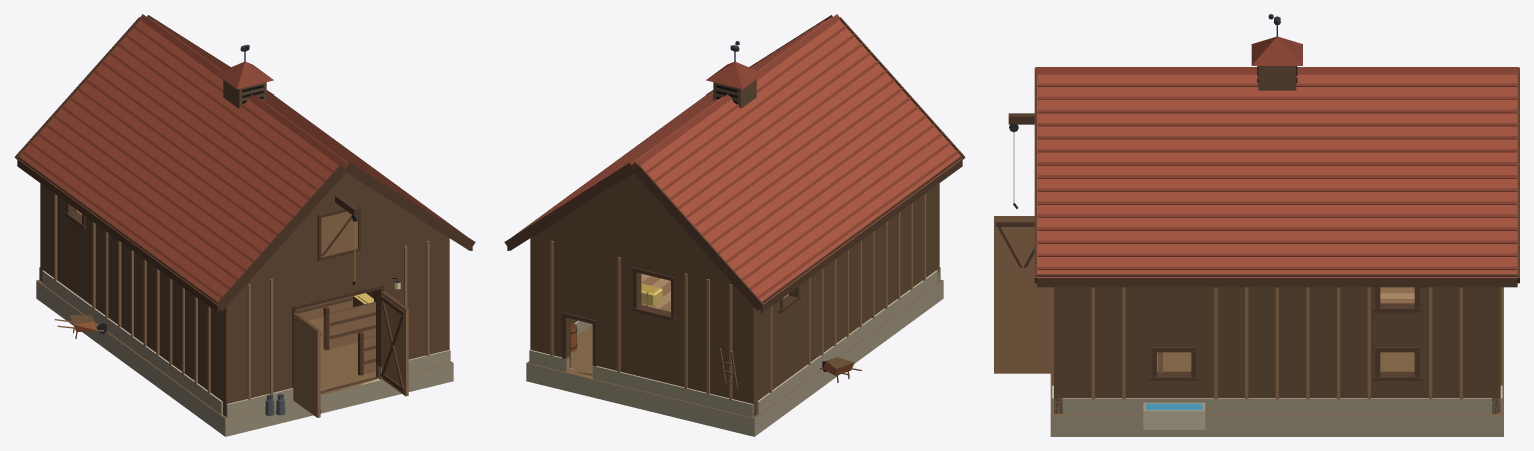
File: barn.glb
3 views of the same model, side by side, from view 1: azimuth 30°, elevation 25°; view 2: azimuth 150°, elevation 25°; view 3: azimuth 270°, elevation 25° (orthographic). The views are drawn at different scales.
Visible parts, largest first — view 1: LOD0; view 2: LOD0; view 3: LOD0.
Boxes of the visible parts, x1,y1,x2,y2 form: LOD0: (14, 14, 475, 436); LOD0: (504, 14, 965, 436); LOD0: (994, 14, 1519, 436).
Size of what is drawn, in the model's own units: 11.74 by 11.45 by 15.32.
1 material, 1 textured.
